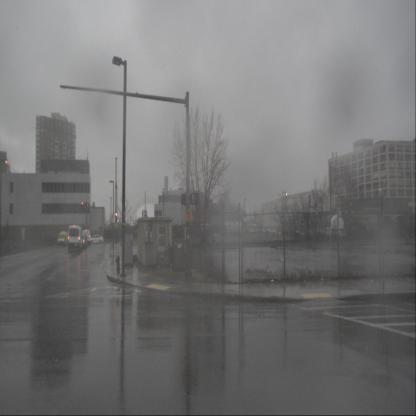vehicle-car: (67, 224, 84, 252), (57, 230, 68, 247), (76, 233, 88, 248), (332, 227, 346, 239), (322, 228, 336, 239), (82, 229, 91, 246), (89, 234, 104, 244), (266, 227, 276, 234), (250, 228, 258, 235)
